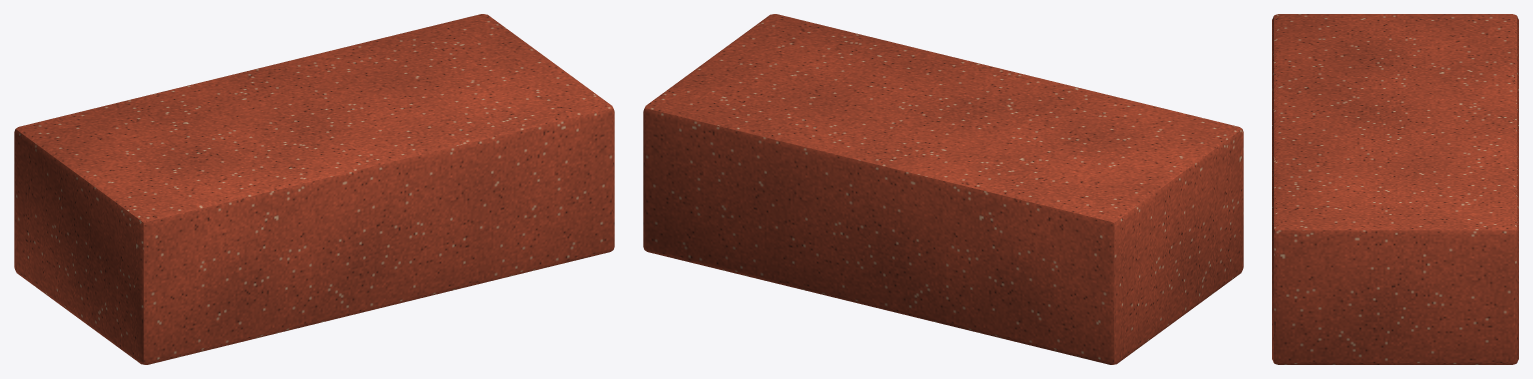
File: brick_nf.gltf
The picture shows the model from 3 angles, left to right: view 1: azimuth 30°, elevation 25°; view 2: azimuth 150°, elevation 25°; view 3: azimuth 270°, elevation 25°; orthographic projection. The views are drawn at different scales.
Parts seen in each view (by area): view 1: brick_nf; view 2: brick_nf; view 3: brick_nf.
Part boxes in pixels (x1,y1,x2,y2): brick_nf: (14,14,614,364); brick_nf: (643,14,1243,364); brick_nf: (1272,14,1518,364).
Bounding box in the file's own units: 0.24 × 0.071 × 0.115.
1 material, 1 textured.
